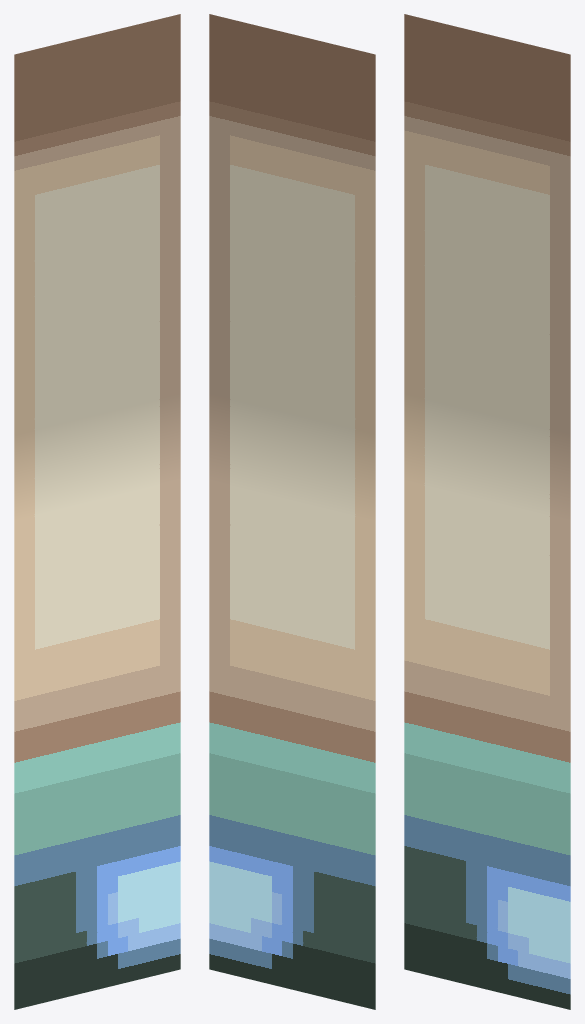
3 views of the same model, side by side, from view 1: azimuth 30°, elevation 25°; view 2: azimuth 150°, elevation 25°; view 3: azimuth 330°, elevation 25° (orthographic).
Bounding box in the file's own units: 1 × 5.5 × 0.
1 material, 1 textured.
